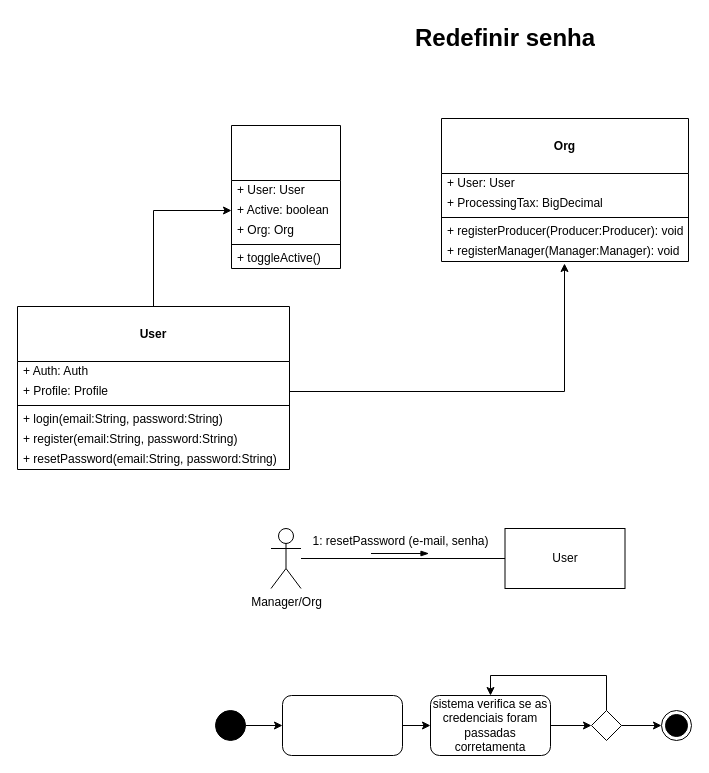
Some shapes in this 709 by 773 pixel diagram are drawn without their labels. Each missing label, with the box of its shape:
insere login e senha: (282, 694, 402, 756)
Manager: (230, 124, 340, 268)
